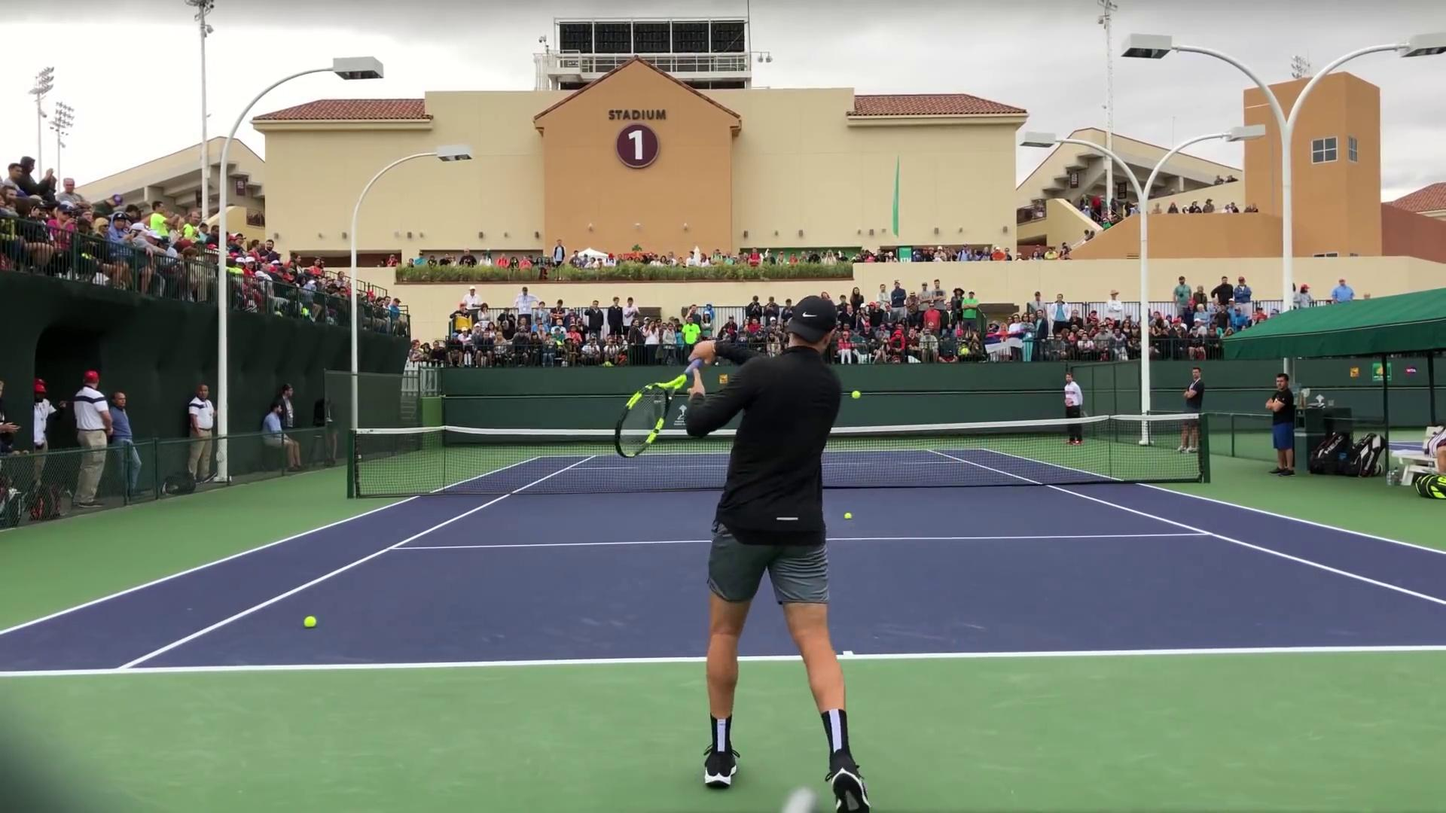ball: (303, 616, 315, 626), (850, 390, 861, 400), (843, 512, 852, 520)
